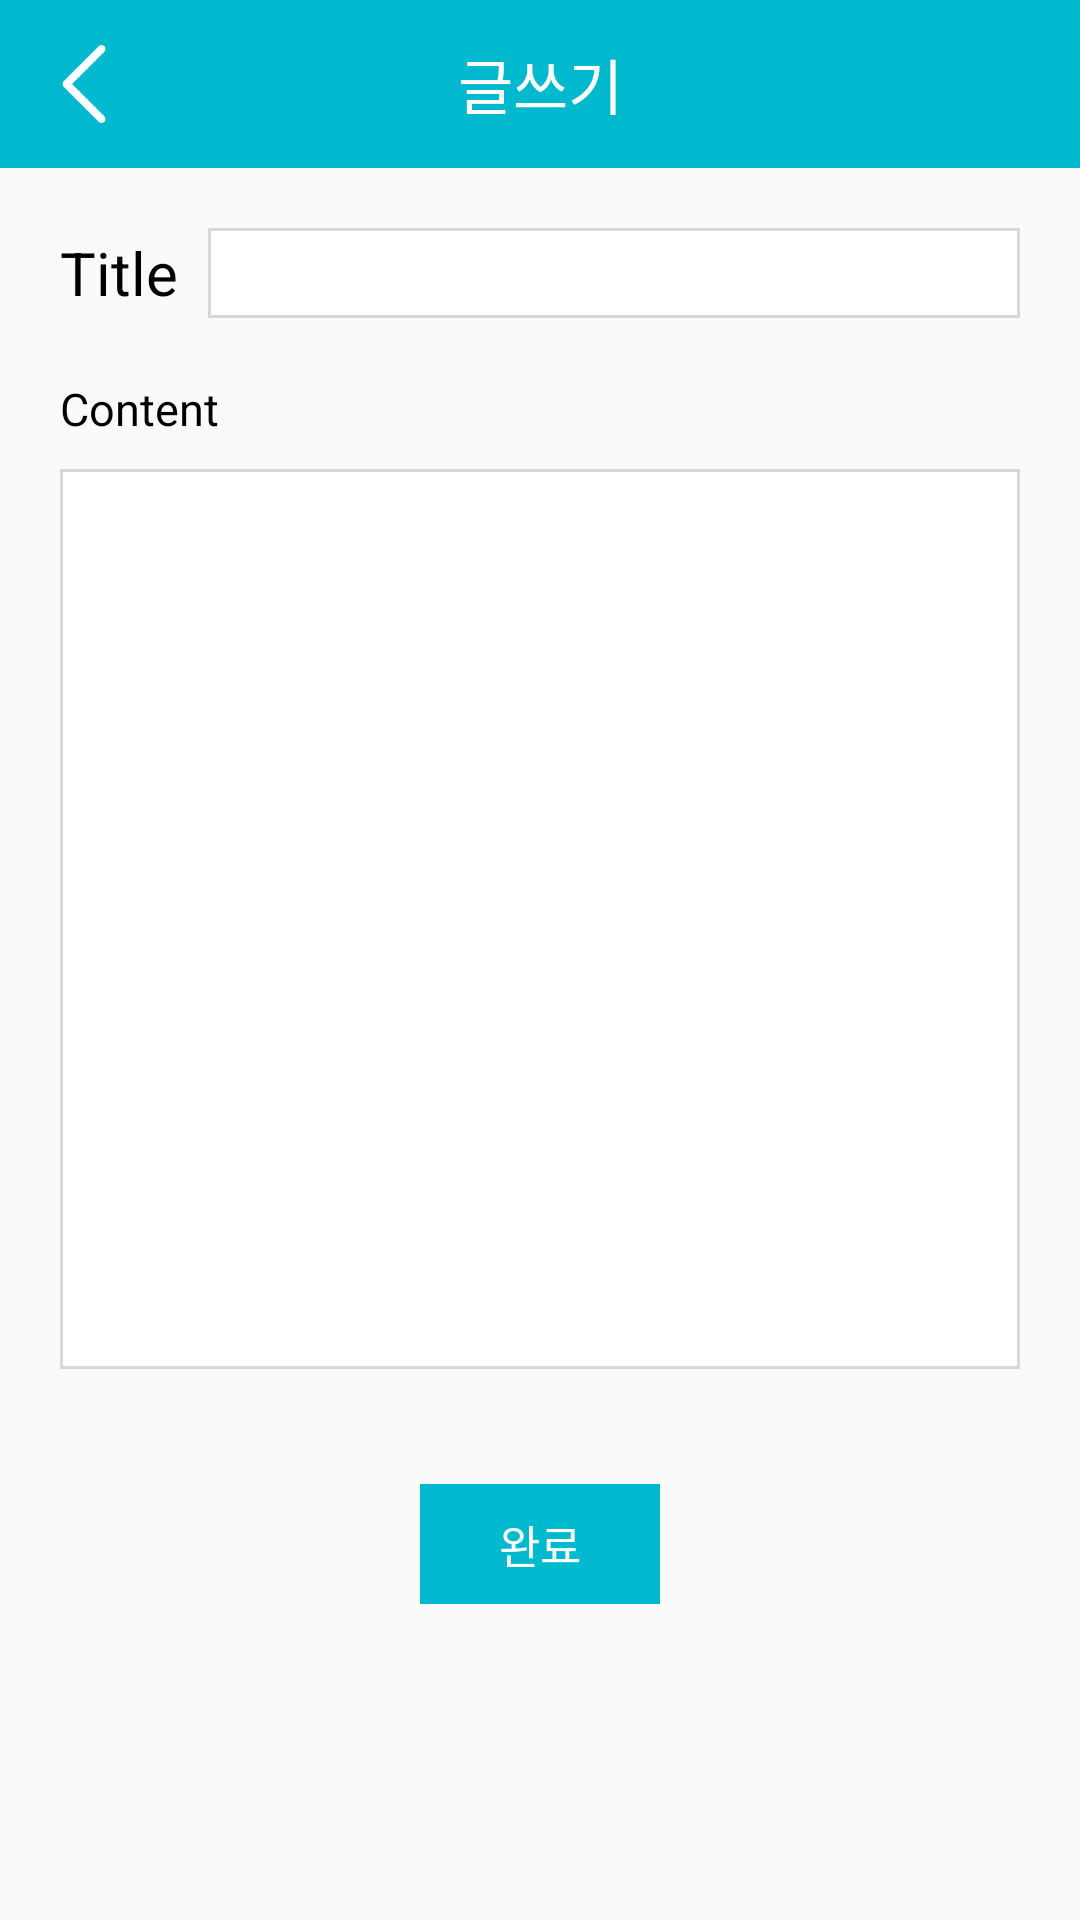

Icon bounding boxes for this 1080*1920 phone screenshot, format (x1, y1, x2, y2):
back: (62, 45, 106, 123)
